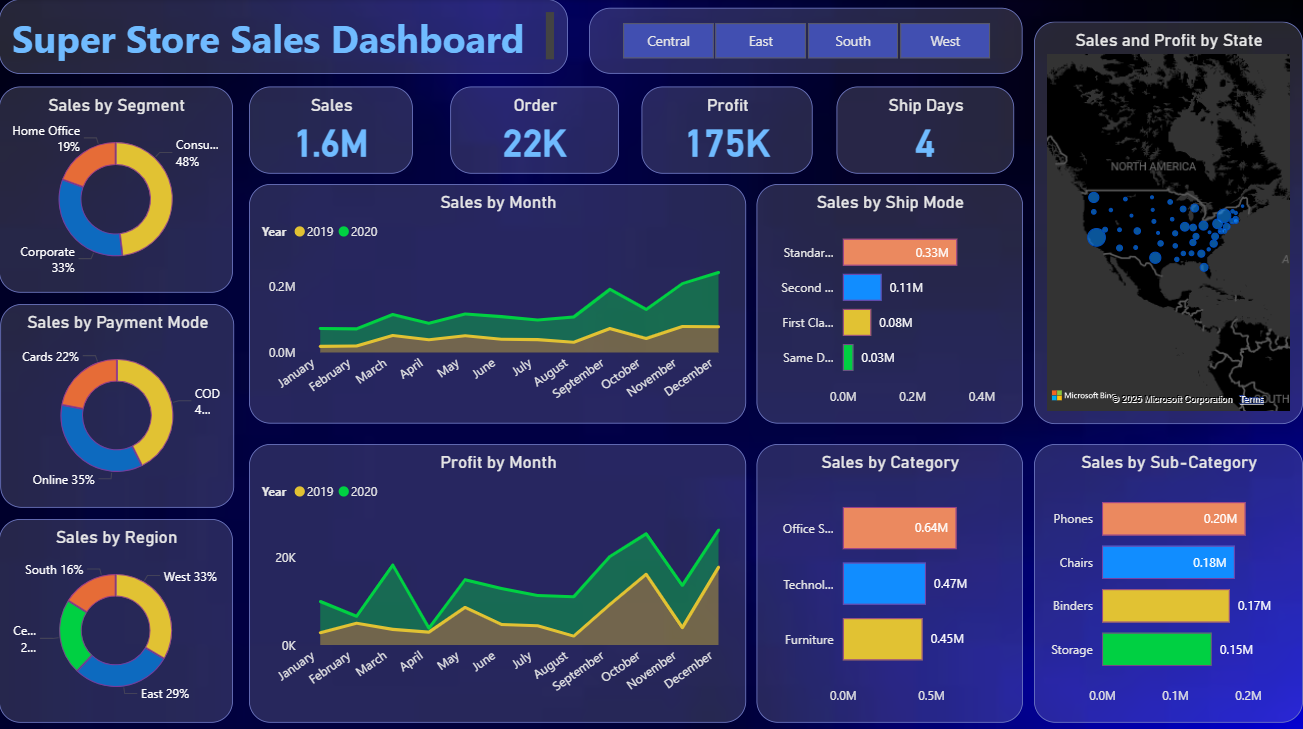

This screenshot's page, from the dashboard's own definition file:
{"tool":"powerbi","page":{"name":"Dashboard","canvas":[1280,720],"ordinal":0},"visuals":[{"type":"clusteredBarChart","title":"Sales by Category","fields":{"Category":["SuperStore_Sales_Dataset.Category"],"Y":["Sum(SuperStore_Sales_Dataset.Sales)"]},"box":[743.6,436.8,261.4,273.6],"z":0},{"type":"clusteredBarChart","title":"Sales by Sub-Category","fields":{"Y":["Sum(SuperStore_Sales_Dataset.Sales)"],"Category":["SuperStore_Sales_Dataset.Sub-Category"]},"box":[1016,436.8,263.8,273.6],"z":1000},{"type":"clusteredBarChart","title":"Sales by Ship Mode","fields":{"Y":["Sum(SuperStore_Sales_Dataset.Sales)"],"Category":["SuperStore_Sales_Dataset.Ship Mode"]},"box":[743.6,181.6,261.4,235.6],"z":2000},{"type":"stackedAreaChart","title":"Sales by Month","fields":{"Category":["SuperStore_Sales_Dataset.Order Date.Variation.Date Hierarchy.Month","SuperStore_Sales_Dataset.Order Date.Variation.Date Hierarchy.Day"],"Y":["Sum(SuperStore_Sales_Dataset.Sales)"],"Series":["SuperStore_Sales_Dataset.Order Date.Variation.Date Hierarchy.Year"]},"box":[245.4,181.6,488.3,235.6],"z":3000},{"type":"stackedAreaChart","title":"Profit by Month","fields":{"Category":["SuperStore_Sales_Dataset.Order Date.Variation.Date Hierarchy.Month","SuperStore_Sales_Dataset.Order Date.Variation.Date Hierarchy.Day"],"Series":["SuperStore_Sales_Dataset.Order Date.Variation.Date Hierarchy.Year"],"Y":["Sum(SuperStore_Sales_Dataset.Profit)"]},"box":[245.4,436.8,488.3,273.6],"z":4000},{"type":"map","title":"Sales and Profit by State","fields":{"Category":["SuperStore_Sales_Dataset.State"],"Size":["Sum(SuperStore_Sales_Dataset.Sales)"]},"box":[1016,22.1,263.8,395.1],"z":5000},{"type":"donutChart","title":"Sales by Segment","fields":{"Category":["SuperStore_Sales_Dataset.Segment"],"Y":["Sum(SuperStore_Sales_Dataset.Sales)"]},"box":[0,85.9,229.4,202.5],"z":6000},{"type":"donutChart","title":"Sales by Payment Mode","fields":{"Y":["Sum(SuperStore_Sales_Dataset.Sales)"],"Category":["SuperStore_Sales_Dataset.Payment Mode"]},"box":[1.2,299.4,229.4,200],"z":7000},{"type":"slicer","fields":{"Values":["SuperStore_Sales_Dataset.Region"]},"box":[579.1,8.6,425.8,65],"z":8000},{"type":"textbox","box":[0,0,558.3,73.6],"z":9000},{"type":"card","title":"Sales","fields":{"Values":["Sum(SuperStore_Sales_Dataset.Sales)"]},"box":[245.4,85.9,160.7,85.9],"z":10000},{"type":"card","title":"Order","fields":{"Values":["Sum(SuperStore_Sales_Dataset.Quantity)"]},"box":[442.9,85.9,165.6,85.9],"z":11000},{"type":"card","title":"Profit","fields":{"Values":["Sum(SuperStore_Sales_Dataset.Profit)"]},"box":[630.7,85.9,168.1,85.9],"z":12000},{"type":"card","title":"Ship Days","fields":{"Values":["Avg(SuperStore_Sales_Dataset.Delivery)"]},"box":[822.1,85.9,174.2,85.9],"z":13000},{"type":"donutChart","title":"Sales by Region","fields":{"Category":["SuperStore_Sales_Dataset.Region","SuperStore_Sales_Dataset.Segment"],"Y":["Sum(SuperStore_Sales_Dataset.Sales)"]},"box":[0,510.4,229.4,200],"z":14000}]}

Visuals, with their boxes in screenshot pixels (x1, y1, x2, y2), scaled from the page's 1280x720 canvas onto the 1303x729 screenshot:
"Sales by Category" clusteredBarChart: x1=757 y1=442 x2=1023 y2=719
"Sales by Sub-Category" clusteredBarChart: x1=1034 y1=442 x2=1302 y2=719
"Sales by Ship Mode" clusteredBarChart: x1=757 y1=184 x2=1023 y2=422
"Sales by Month" stackedAreaChart: x1=250 y1=184 x2=747 y2=422
"Profit by Month" stackedAreaChart: x1=250 y1=442 x2=747 y2=719
"Sales and Profit by State" map: x1=1034 y1=22 x2=1302 y2=422
"Sales by Segment" donutChart: x1=0 y1=87 x2=234 y2=292
"Sales by Payment Mode" donutChart: x1=1 y1=303 x2=235 y2=506
slicer - SuperStore_Sales_Dataset.Region: x1=590 y1=9 x2=1023 y2=75
textbox: x1=0 y1=0 x2=568 y2=75
"Sales" card: x1=250 y1=87 x2=413 y2=174
"Order" card: x1=451 y1=87 x2=619 y2=174
"Profit" card: x1=642 y1=87 x2=813 y2=174
"Ship Days" card: x1=837 y1=87 x2=1014 y2=174
"Sales by Region" donutChart: x1=0 y1=517 x2=234 y2=719
